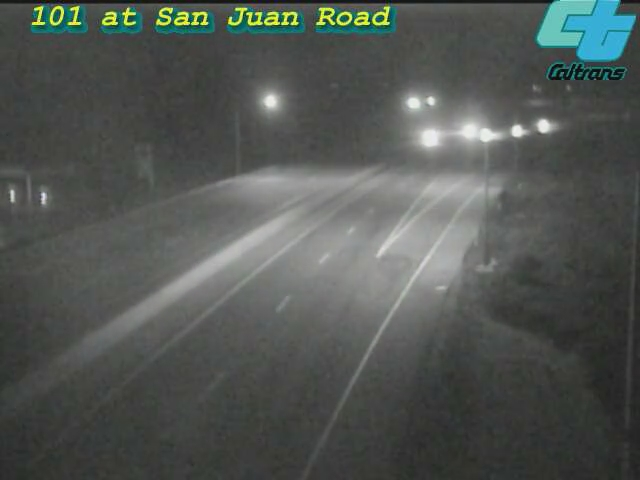vehicle: (410, 112, 460, 162), (442, 104, 492, 154), (519, 103, 569, 153), (493, 106, 543, 156), (461, 111, 511, 161)
